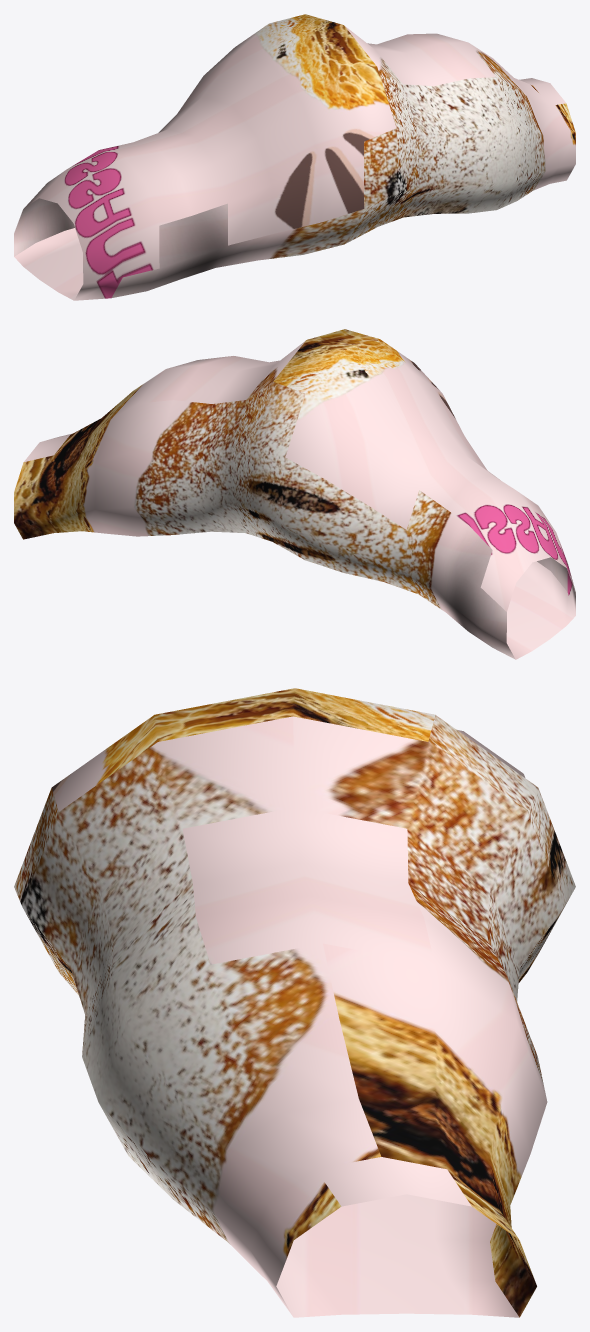
Rendered from prop_nutella_croissant.glb.
3 views of the same model, one above another, from view 1: azimuth 30°, elevation 25°; view 2: azimuth 150°, elevation 25°; view 3: azimuth 270°, elevation 25° (orthographic). The views are drawn at different scales.
Visible parts, largest first — view 1: prop_nutella_croissant; view 2: prop_nutella_croissant; view 3: prop_nutella_croissant.
Part boxes in pixels (<box>): prop_nutella_croissant: <box>14,14,575,300</box>; prop_nutella_croissant: <box>14,329,575,659</box>; prop_nutella_croissant: <box>14,688,575,1317</box>.
Bounding box in the file's own units: 0.1397 × 0.0549 × 0.0707.
1 material, 1 textured.
